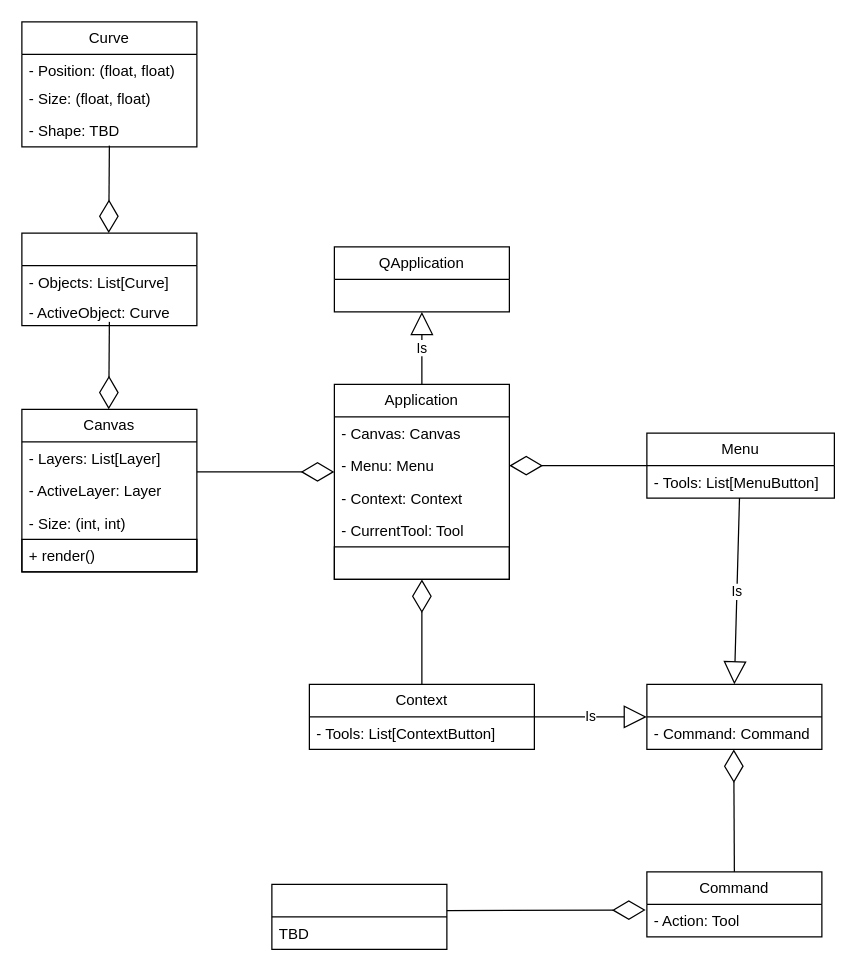
This 856x975 diagram has some shape labels left out. The box of each missing label's shape, as (x1, y1, x2, y2) in pixels:
+ run(): void: (333, 546, 509, 579)
Button: (646, 683, 822, 749)
Layer: (21, 232, 197, 326)
Tool: (271, 883, 447, 949)
